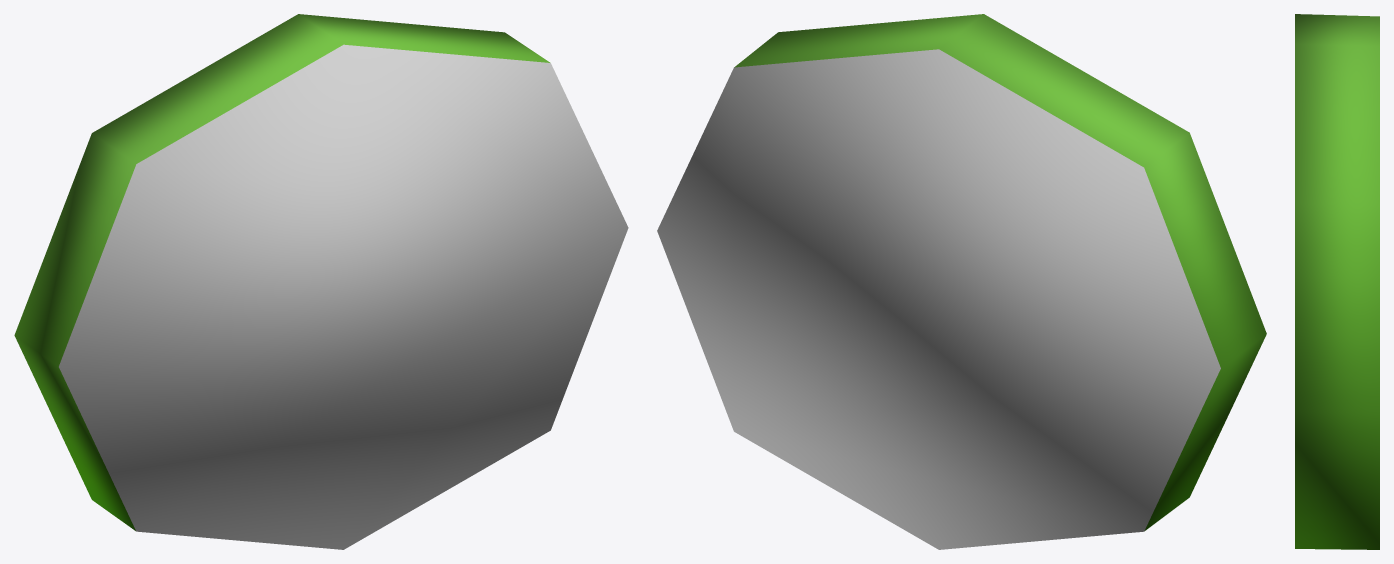
Rendered from ChoppedCucumber.fbx.
The picture shows the model from 3 angles, left to right: view 1: azimuth 30°, elevation 25°; view 2: azimuth 150°, elevation 25°; view 3: azimuth 270°, elevation 25°; orthographic projection. The views are drawn at different scales.
Parts seen in each view (by area): view 1: CucumberSalad; view 2: CucumberSalad; view 3: CucumberSalad.
Part boxes in pixels (x1,y1,x2,y2): CucumberSalad: (14, 14, 628, 549); CucumberSalad: (657, 14, 1266, 549); CucumberSalad: (1295, 14, 1379, 549).
Bounding box in the file's own units: 0.32 × 0.2719 × 0.044.
